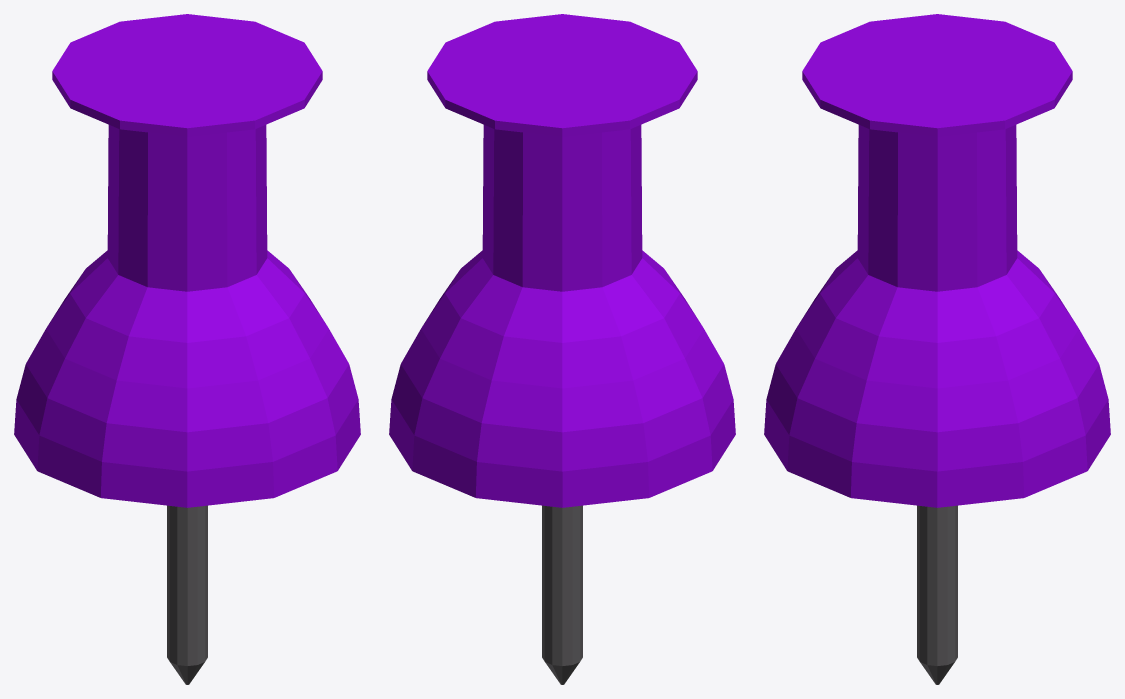
File: pin.fbx
The picture shows the model from 3 angles, left to right: view 1: azimuth 30°, elevation 25°; view 2: azimuth 150°, elevation 25°; view 3: azimuth 270°, elevation 25°; orthographic projection.
Parts seen in each view (by area): view 1: Cube; view 2: Cube; view 3: Cube.
Part boxes in pixels (<box>): Cube: <box>14,14,360,684</box>; Cube: <box>389,14,735,684</box>; Cube: <box>764,14,1110,684</box>.
Bounding box in the file's own units: 179 × 349 × 179.
